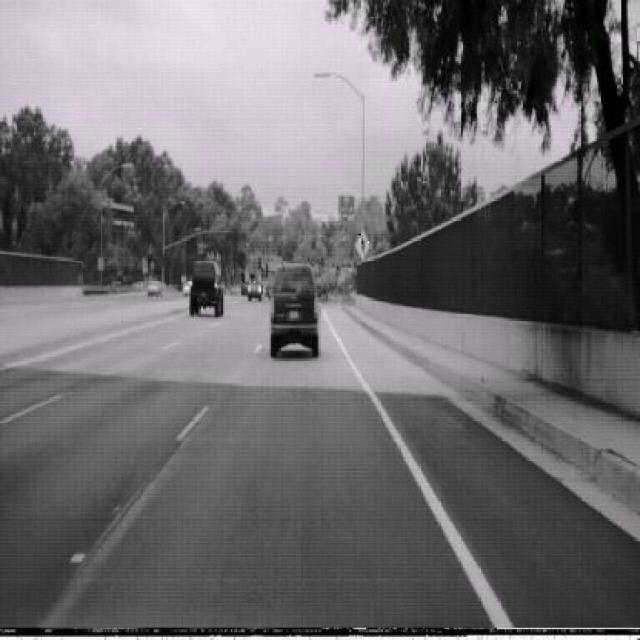pedestrianCrossing: (354, 228, 371, 262)
